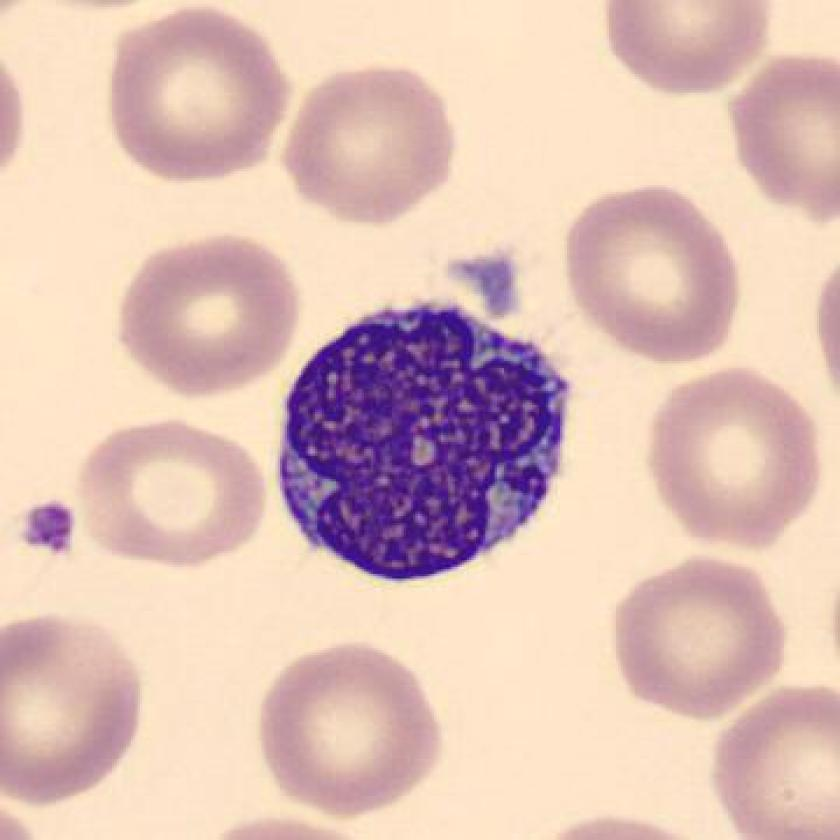monocyte: (258, 281, 587, 603)
